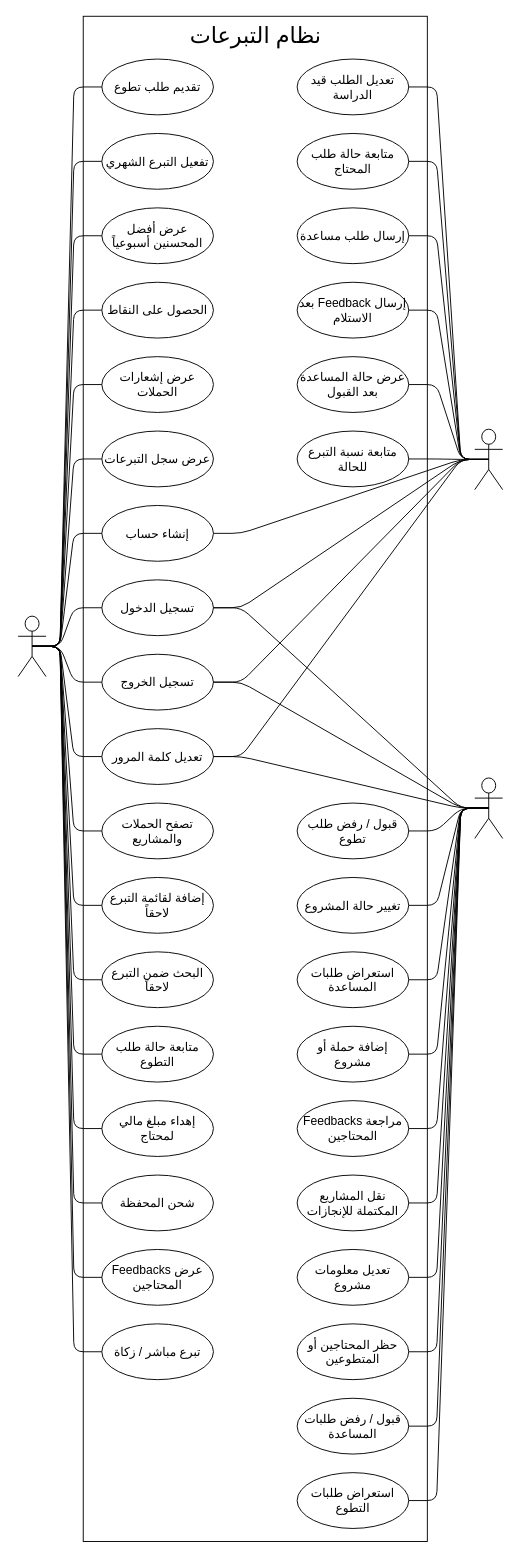
This 522x1558 diagram has some shape labels left out. The shapes that lost their labels are listed below. From the top down, each one's centre as x and y in pixels, then its label:
At point (488, 459): "المحتاج".
At point (31, 646): "المتبرع".
At point (488, 807): "الأدمن".
